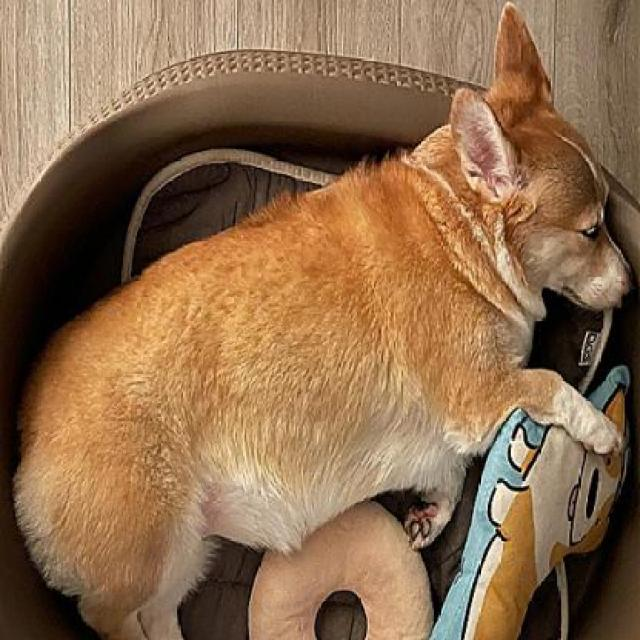Dog: (6, 3, 639, 639)
